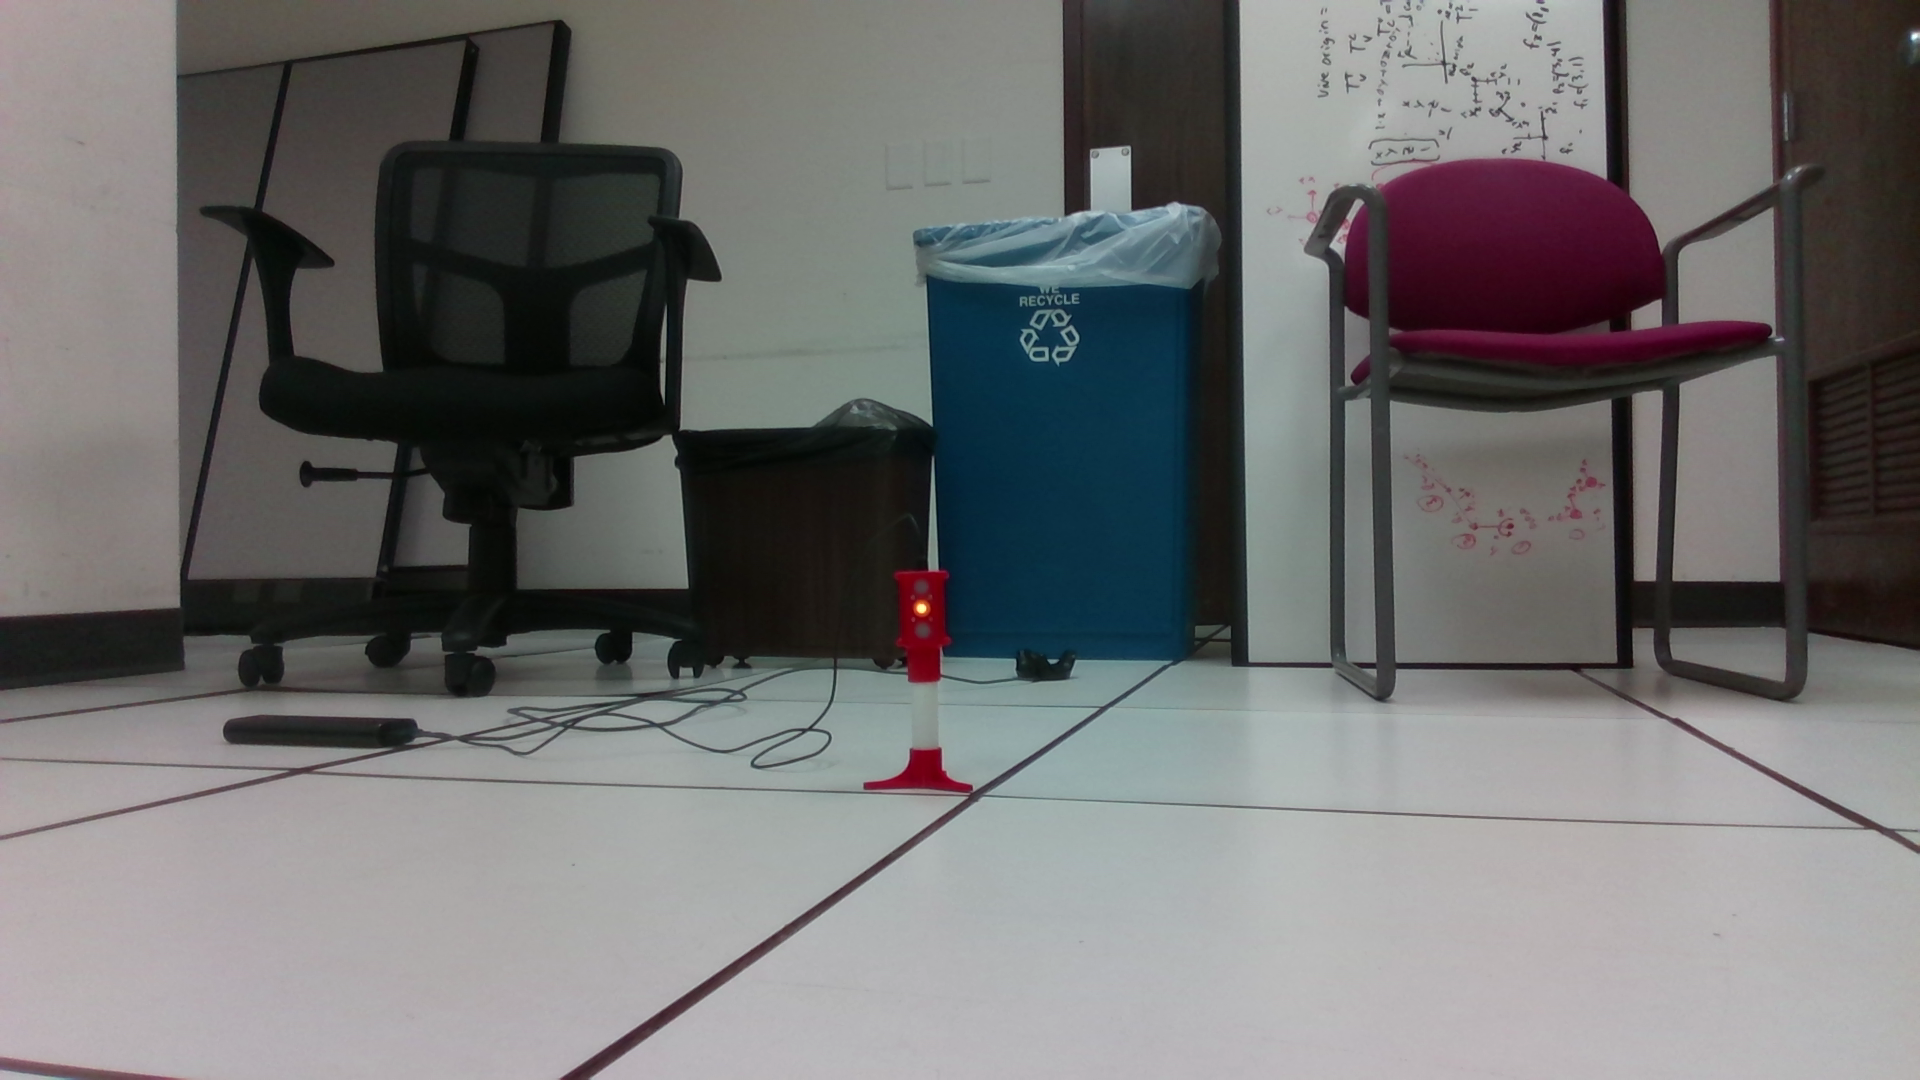stoplight: (891, 568, 953, 686)
